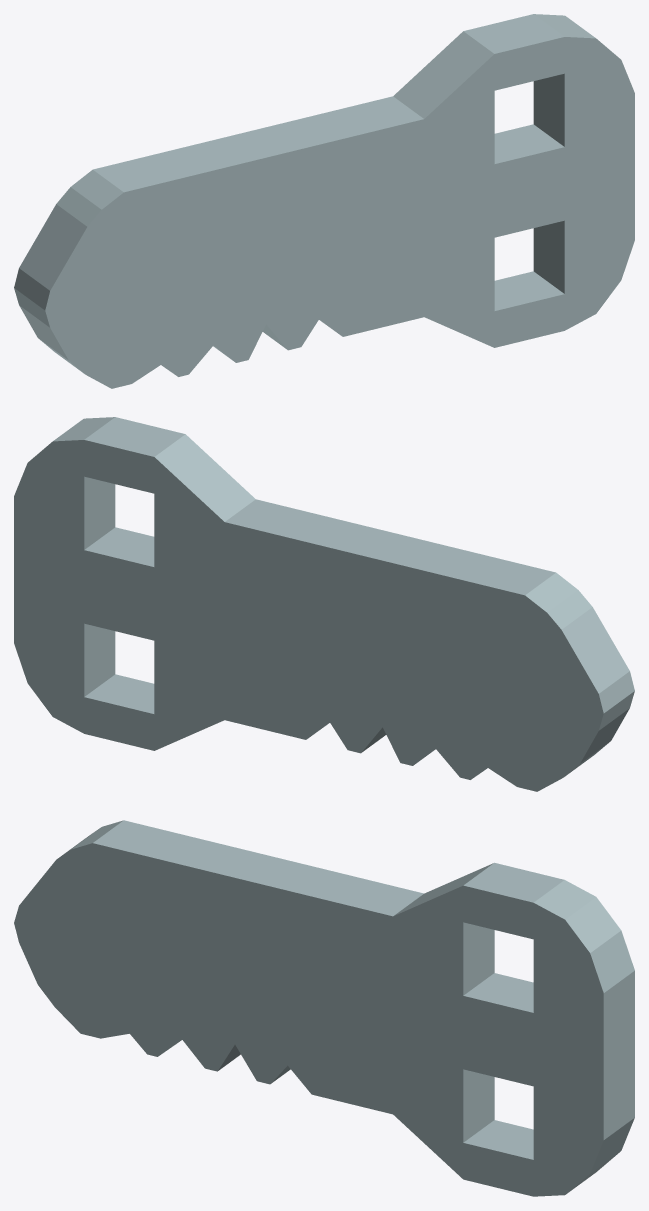
The model's file is Key.fbx.
3 views of the same model, one above another, from view 1: azimuth 30°, elevation 25°; view 2: azimuth 150°, elevation 25°; view 3: azimuth 330°, elevation 25° (orthographic).
Visible parts, largest first — view 1: Plane; view 2: Plane; view 3: Plane.
Boxes of the visible parts, <box> form: Plane: <box>14,14,634,388</box>; Plane: <box>14,417,634,791</box>; Plane: <box>14,820,634,1196</box>.
Bounding box in the file's own units: 0.5771 × 6.3 × 3.
